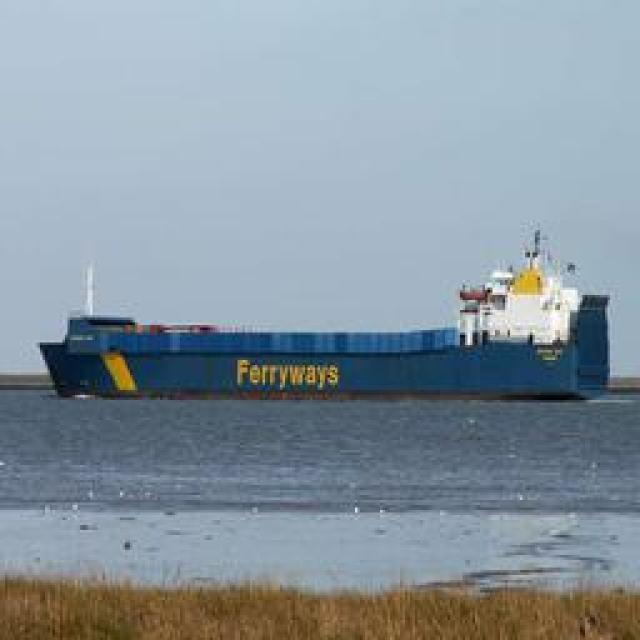CIV_Ship: (56, 240, 604, 405)
